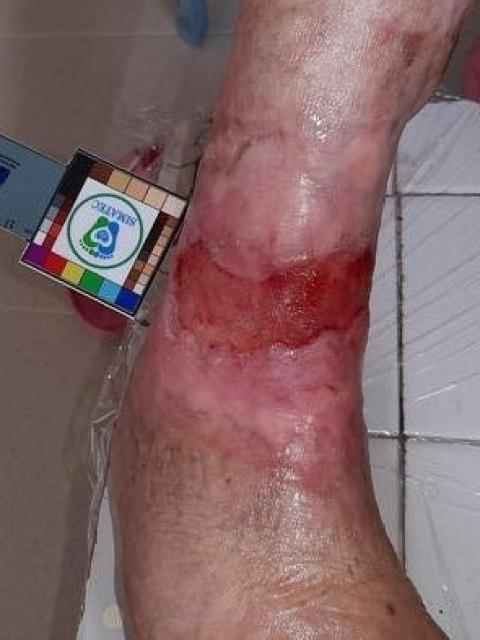wound: (176, 241, 376, 357)
